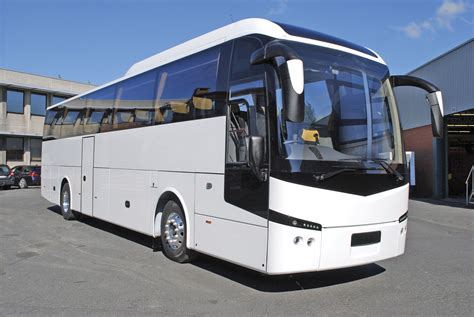bus: (41, 37, 410, 277)
